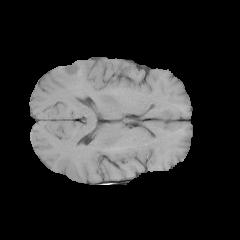glioma: (53, 62, 83, 83)
